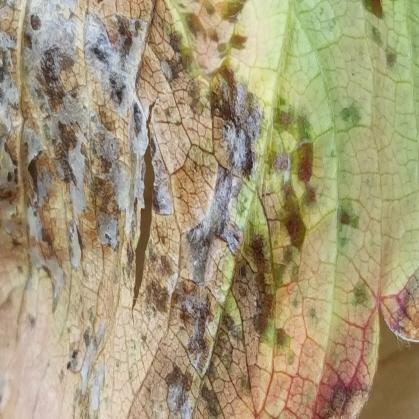Angular Leafspot: (0, 0, 418, 418)
